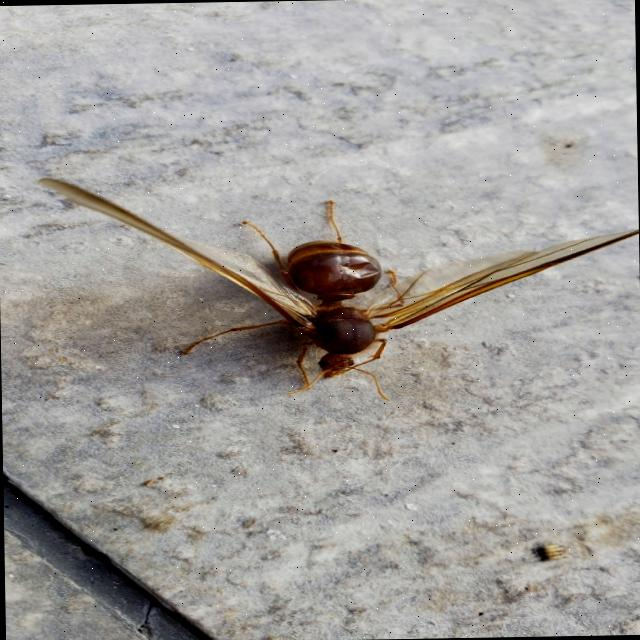Alive-Male-Alate: (36, 167, 640, 407)
